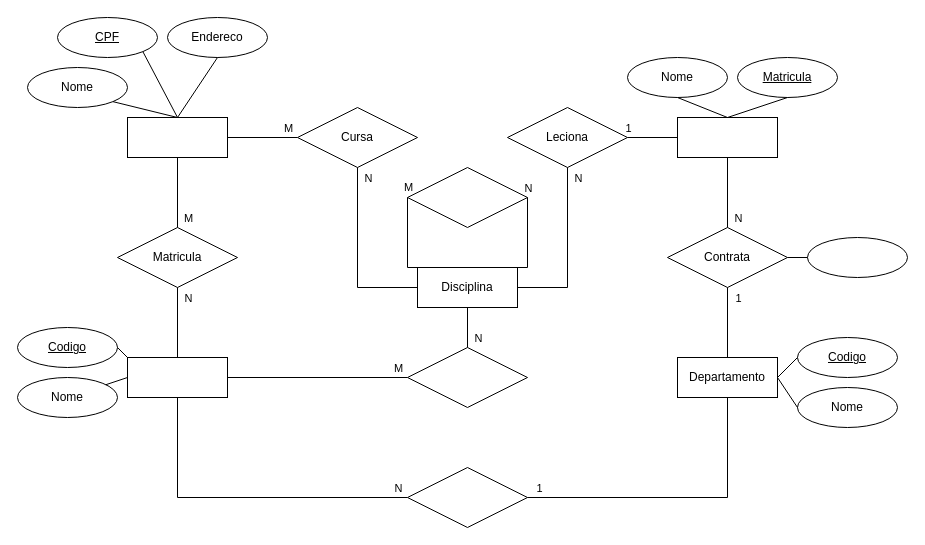
This 925x545 diagram has some shape labels left out. Each missing label, with the centre of its shape:
Aluno: the point at 177,137
Compoe: the point at 467,377
Controla: the point at 467,497
Curso: the point at 177,377
Data Contr.: the point at 857,257
Professor: the point at 727,137
É Pre-req.: the point at 467,197
